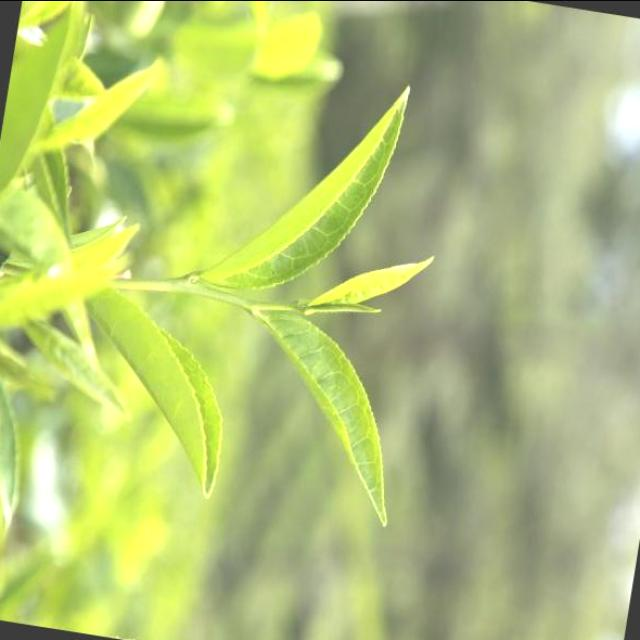Stem: (284, 299, 301, 311)
